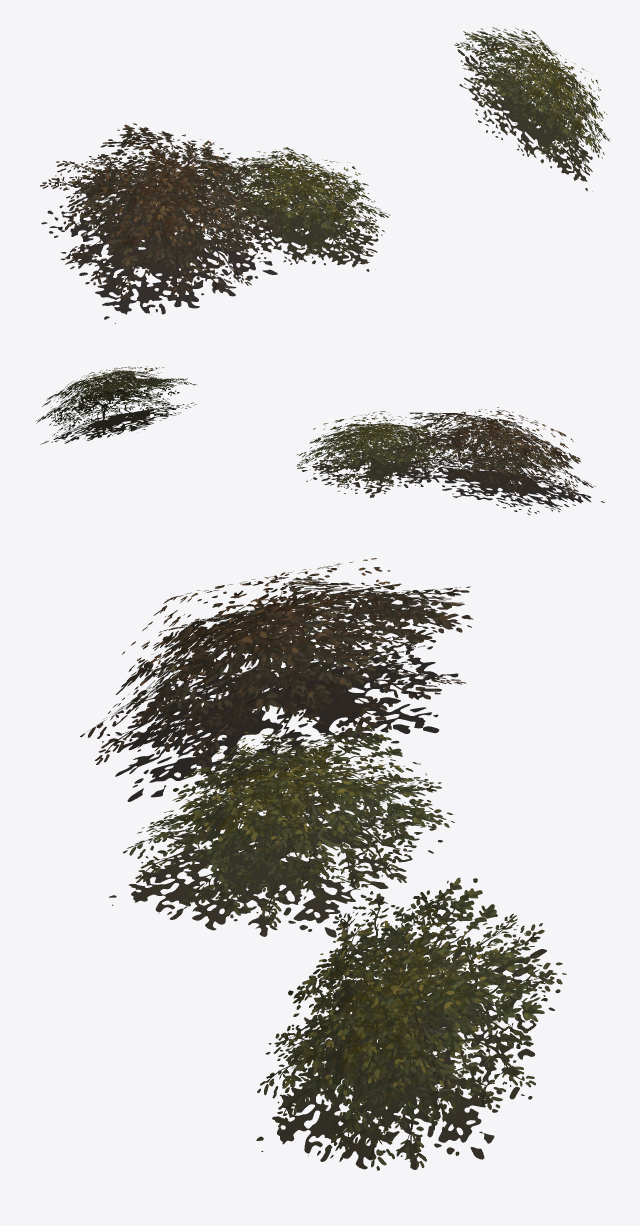
The model's file is plants_bushes01.fbx.
3 views of the same model, one above another, from view 1: azimuth 30°, elevation 25°; view 2: azimuth 150°, elevation 25°; view 3: azimuth 270°, elevation 25° (orthographic). The views are drawn at different scales.
Visible parts, largest first — view 1: plants_bushes01-0; view 2: plants_bushes01-0; view 3: plants_bushes01-0.
Boxes of the visible parts, left/top/right/bottom form: plants_bushes01-0: left=40, top=27, right=610, bottom=323; plants_bushes01-0: left=35, top=366, right=604, bottom=515; plants_bushes01-0: left=80, top=558, right=566, bottom=1170.
Bounding box in the file's own units: 10.36 × 2.3 × 4.88.
